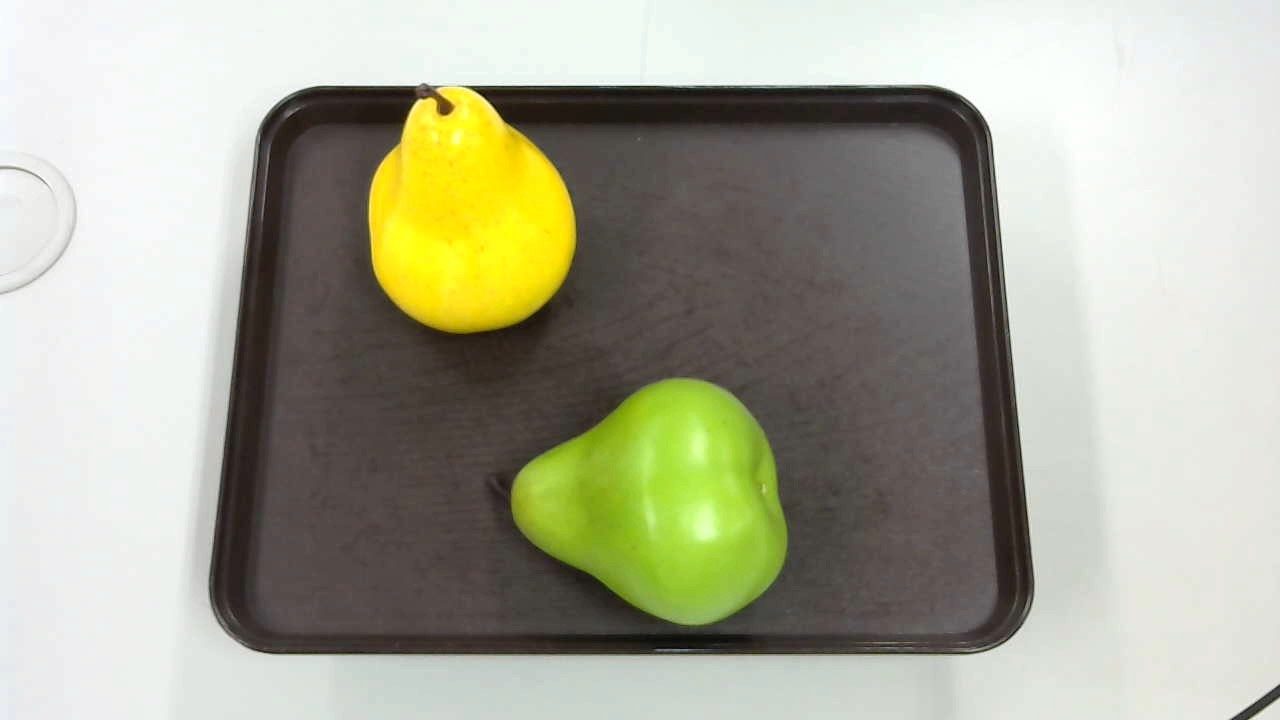green pear: (477, 374, 791, 632)
yellow pear: (361, 76, 589, 341)
